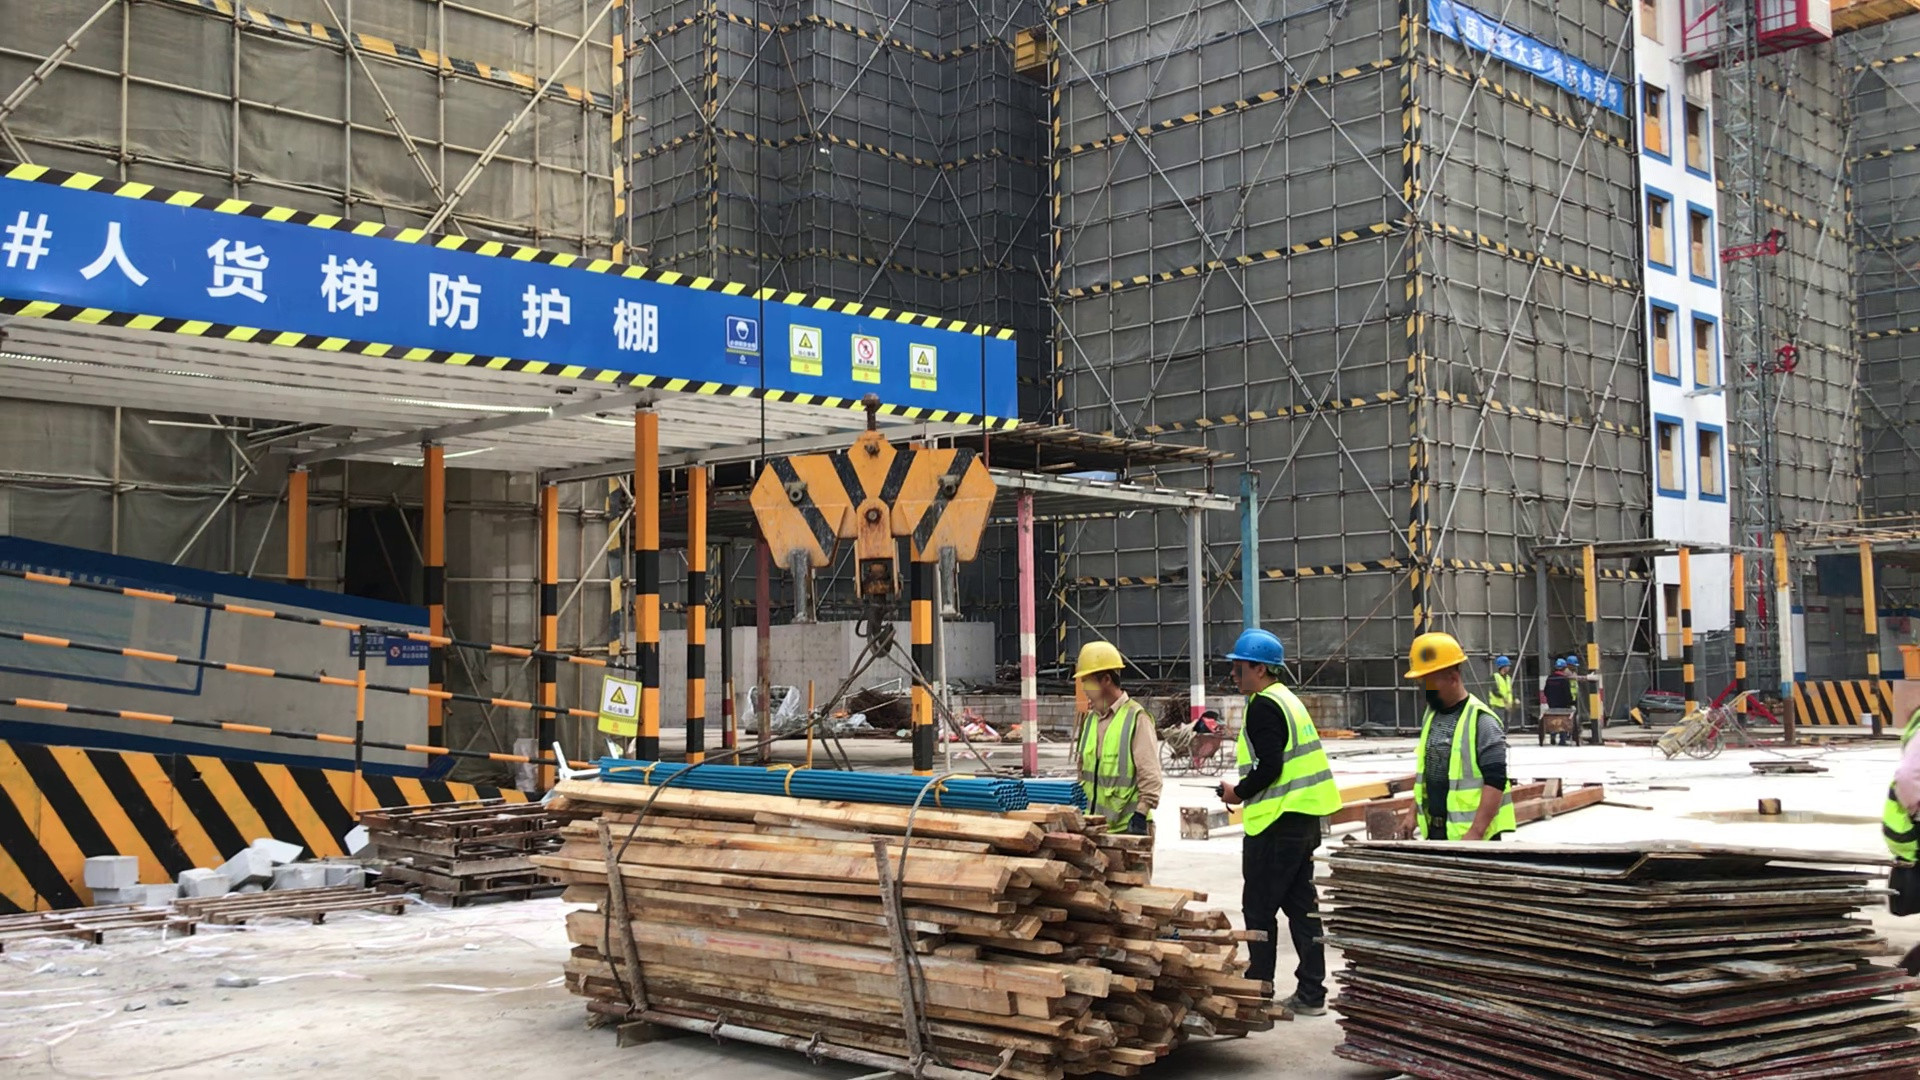board: (1306, 826, 1917, 1080)
handcart: (1660, 683, 1764, 769)
helmet: (1403, 631, 1465, 672), (1227, 628, 1282, 666), (1073, 641, 1126, 672), (1495, 656, 1512, 667), (1568, 655, 1579, 667), (1554, 659, 1567, 669)
hook: (741, 434, 1002, 609)
person: (1216, 630, 1339, 1016), (1393, 630, 1526, 848), (1062, 636, 1163, 841), (1875, 690, 1920, 863), (1489, 655, 1516, 735), (1544, 658, 1569, 712), (1568, 654, 1585, 700)
slogan: (1458, 8, 1632, 116)
vest: (1229, 680, 1336, 834), (1408, 697, 1509, 841), (1075, 701, 1147, 818), (1489, 672, 1512, 709)
wood: (547, 769, 1289, 1080)
